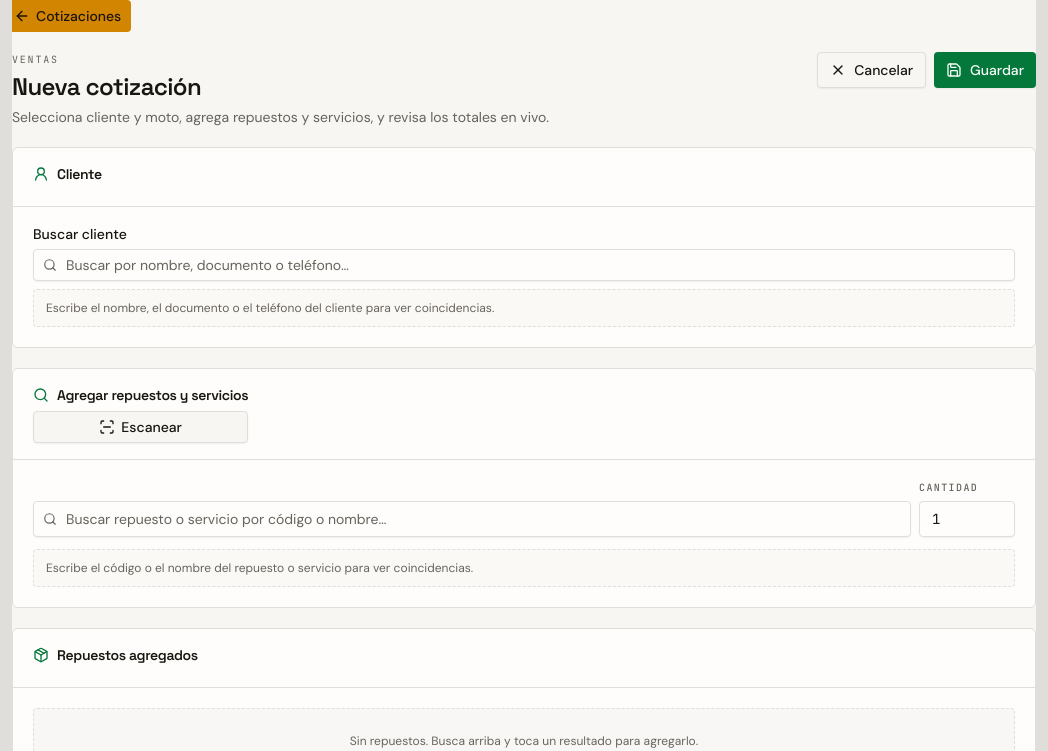
Test: QuoteDetailPage new-quote pickers › drives the motorcycle list from the selected customer
Expected: the heading "Nueva cotización" is shown, top-left (12, 71), bottom-right (201, 102)
Type "Ada" into the search field with test id "quote_detail.customer_search_input".
click(524, 265); type("Ada")  # box top-left (33, 249), bottom-right (1015, 281)
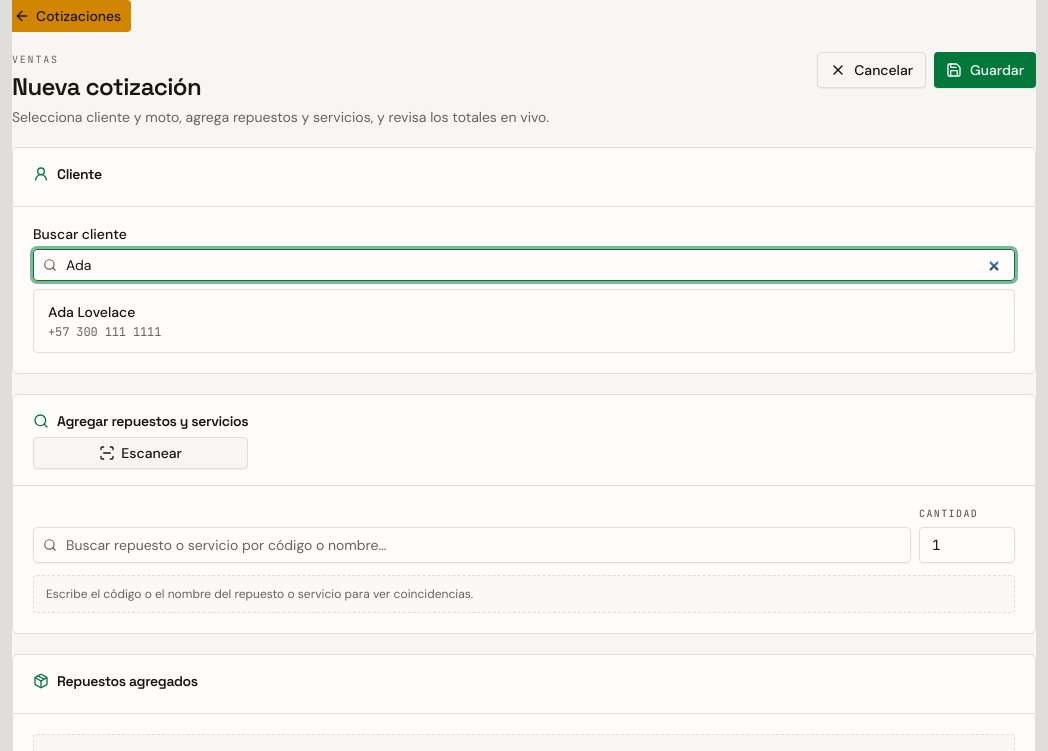
Click the button with test id "quote_detail.customer_search.item.1".
click(92, 312)  # box top-left (38, 294), bottom-right (1010, 348)
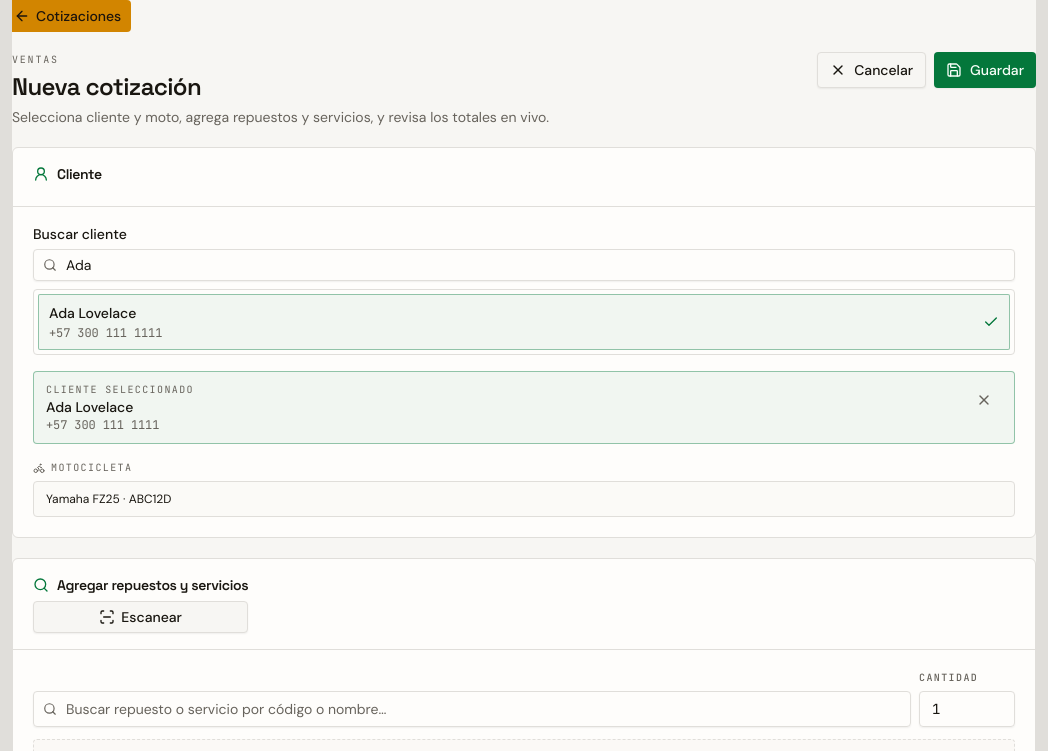
Expected: the text with test id "quote_detail.motorcycle_summary" reads "Yamaha FZ25 · ABC12D", top-left (46, 491), bottom-right (172, 507)
